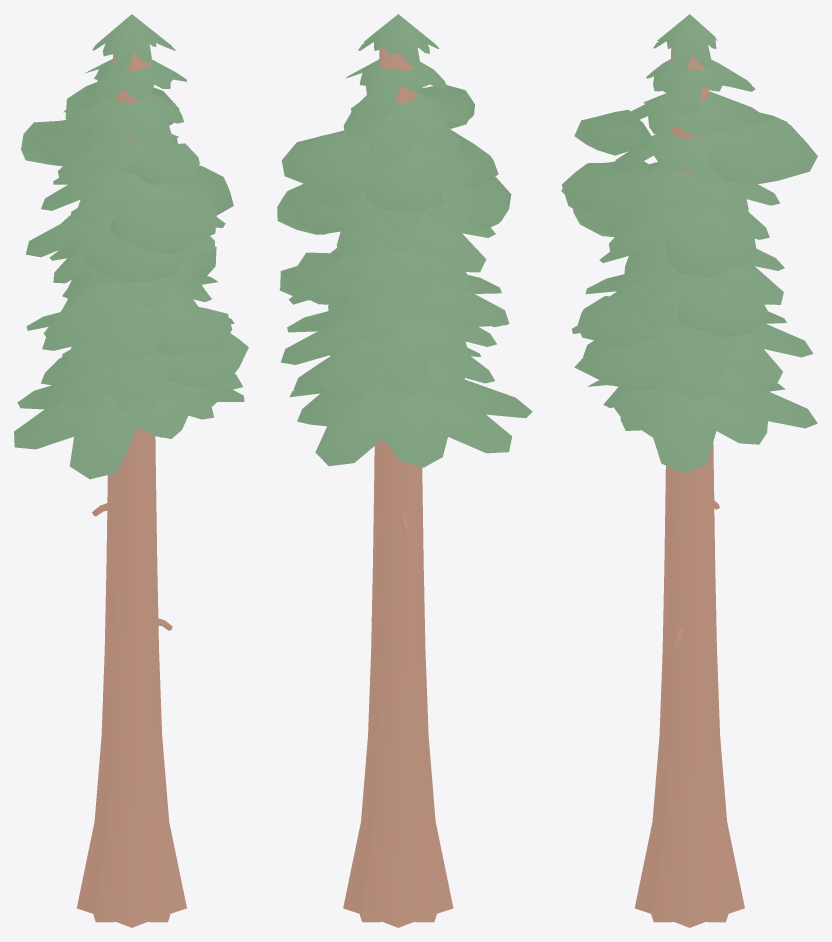
Rendered from Blender_Redwood_1.glb.
The picture shows the model from 3 angles, left to right: view 1: azimuth 30°, elevation 25°; view 2: azimuth 150°, elevation 25°; view 3: azimuth 270°, elevation 25°; orthographic projection.
Parts seen in each view (by area): view 1: Blender_Redwood_1; view 2: Blender_Redwood_1; view 3: Blender_Redwood_1.
Boxes of the visible parts, box(x1,y1,x2,y2) form: Blender_Redwood_1: box(14, 14, 248, 927); Blender_Redwood_1: box(277, 14, 532, 927); Blender_Redwood_1: box(561, 14, 817, 927).
Size of the model in its own units: 26.19 by 99.93 by 26.14.
